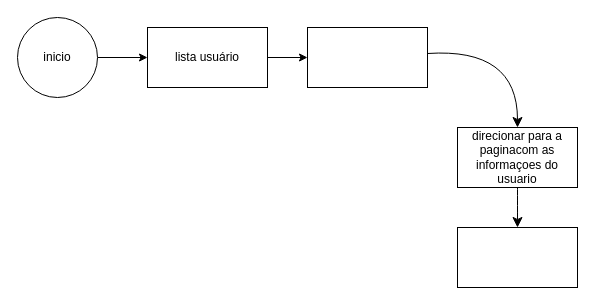
Some shapes in this 595 by 305 pixel diagram are drawn without their labels. The box of each missing label's shape, as (x1, y1, x2, y2) in pixels:
exibição dos usuarios cadastrados: (456, 226, 578, 288)
nome, usuário e turma: (306, 26, 428, 88)
